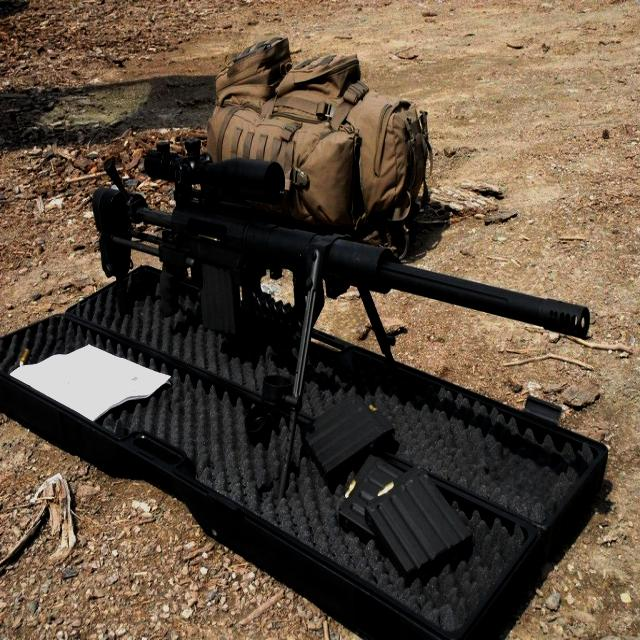rifle: (84, 123, 596, 402)
